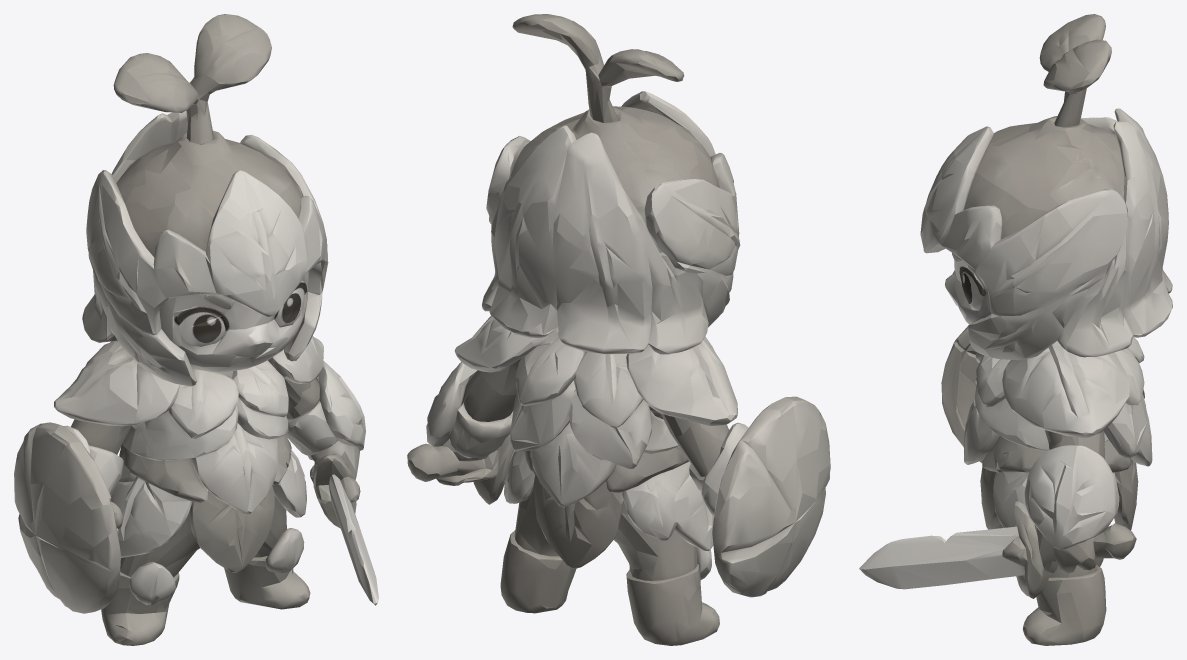
3 renders of one model, left to right at view 1: azimuth 30°, elevation 25°; view 2: azimuth 150°, elevation 25°; view 3: azimuth 270°, elevation 25°, orthographic. The views are drawn at different scales.
Bounding box in the file's own units: 1.17 × 1.9 × 0.9396.
Materials: 1 (1 with a texture image).
